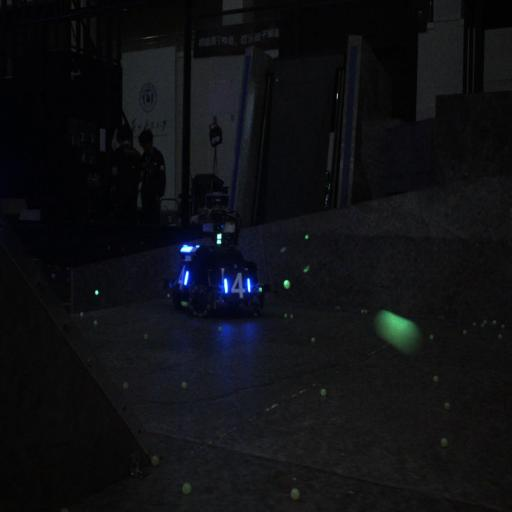target: (219, 264, 256, 308), (172, 262, 193, 298)
